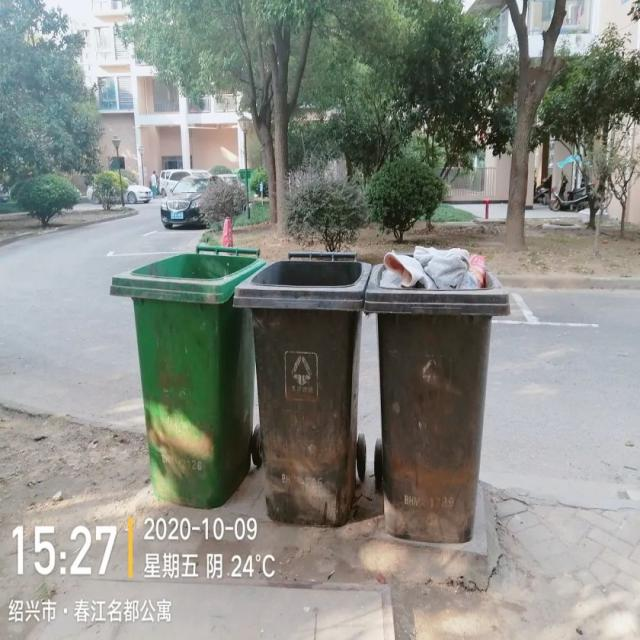garbage_bin: (109, 246, 266, 505), (232, 250, 372, 526)
overflow: (364, 245, 509, 543)
